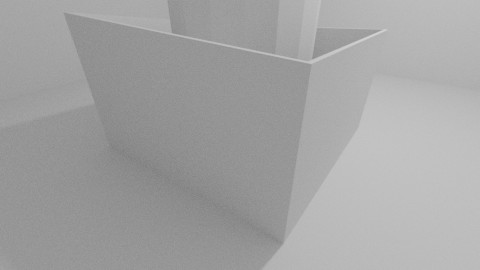cheminee: (167, 1, 321, 173)
eaf: (282, 30, 384, 239)
